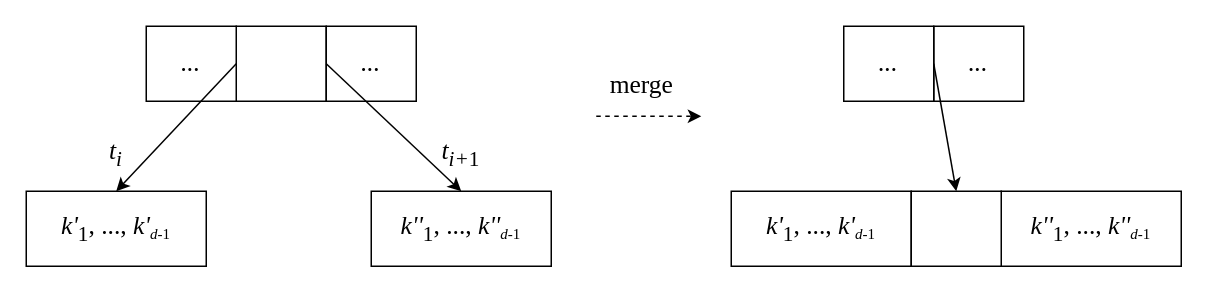
Some shapes in this 1208 by 293 pixel diagram are drawn without their labels. Here are the shapes that lost their labels. From the top down, the box of each, then its label:
(235, 25, 326, 101): x = k i
(910, 190, 1001, 266): k i
